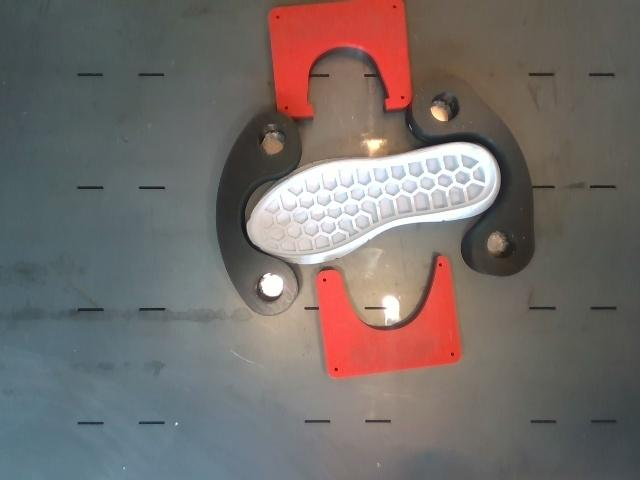shoes: (247, 145, 495, 256)
